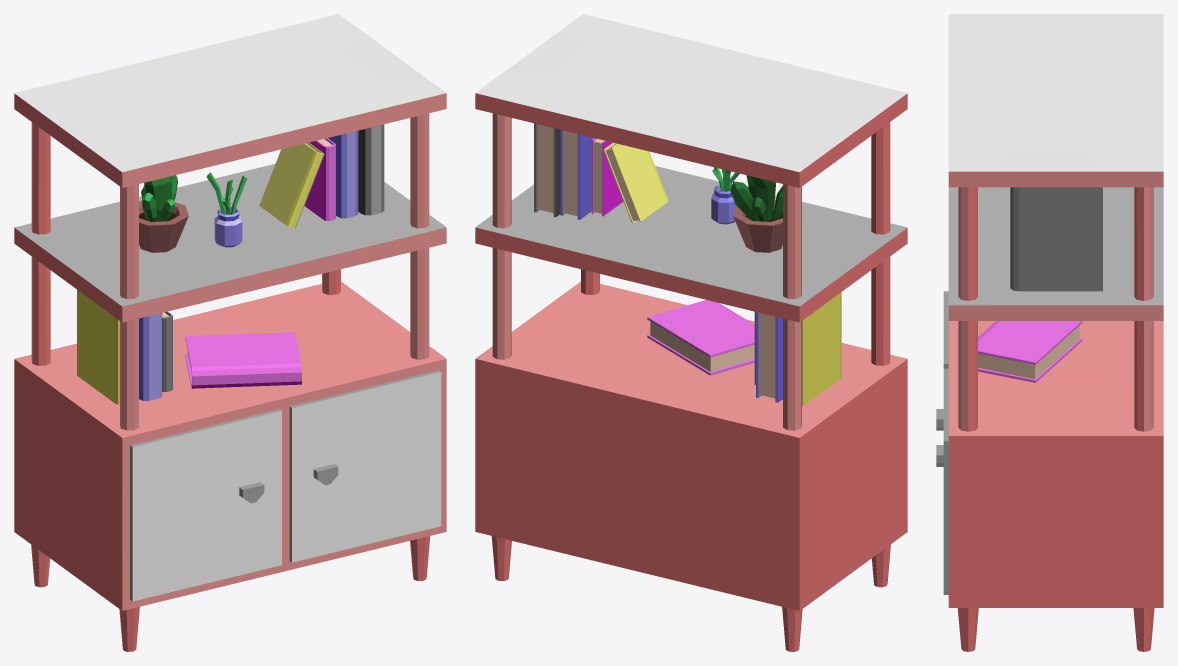
File: low_poly_bookcase_with_plants.glb
3 views of the same model, side by side, from view 1: azimuth 30°, elevation 25°; view 2: azimuth 150°, elevation 25°; view 3: azimuth 270°, elevation 25° (orthographic).
Parts seen in each view (by area): view 1: Closet; view 2: Closet; view 3: Closet.
Part boxes in pixels (<box>): Closet: <box>14,14,446,651</box>; Closet: <box>475,14,907,651</box>; Closet: <box>936,14,1163,651</box>.
Bounding box in the file's own units: 3.78 × 5.43 × 2.3.
1 material, 1 textured.
